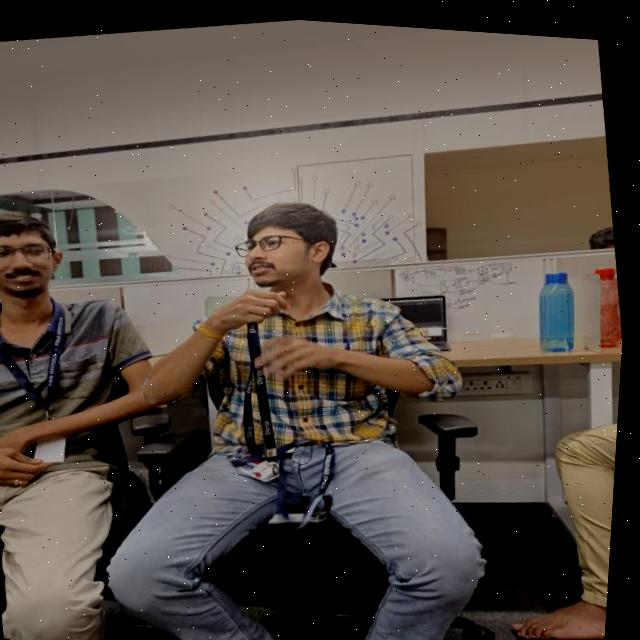id_card: (0, 286, 97, 475)
